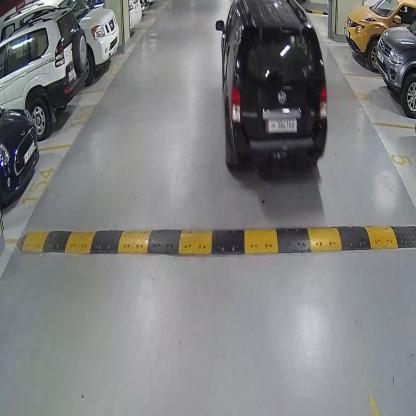np: (267, 115, 297, 132)
